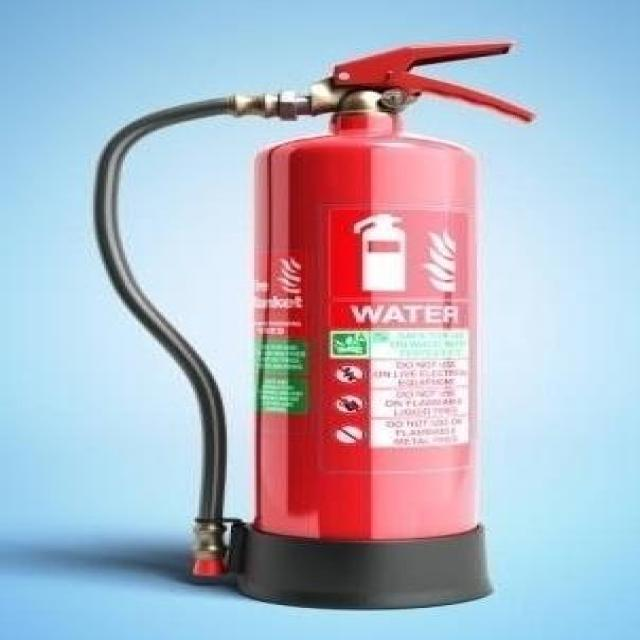fire_extinguisher: (82, 36, 542, 612)
